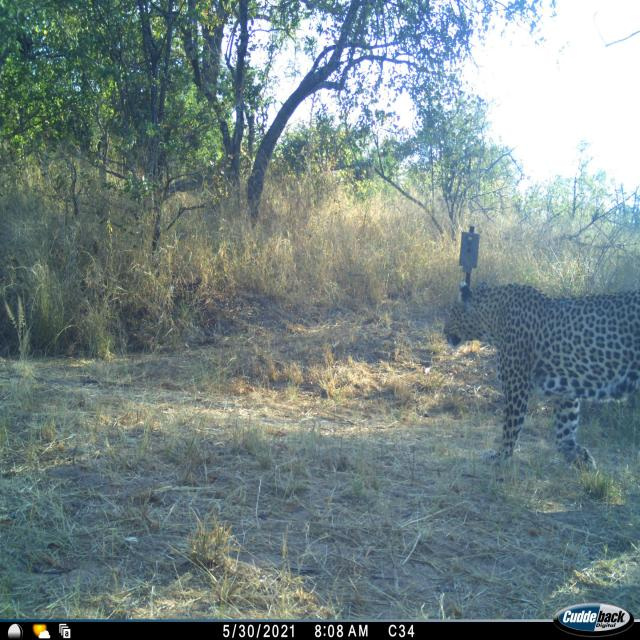Leopard: (446, 233, 640, 512)
